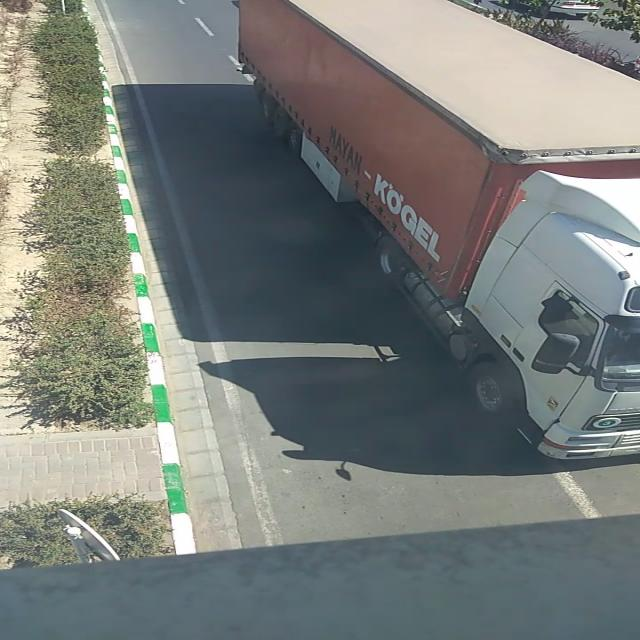truck: (238, 1, 640, 460)
